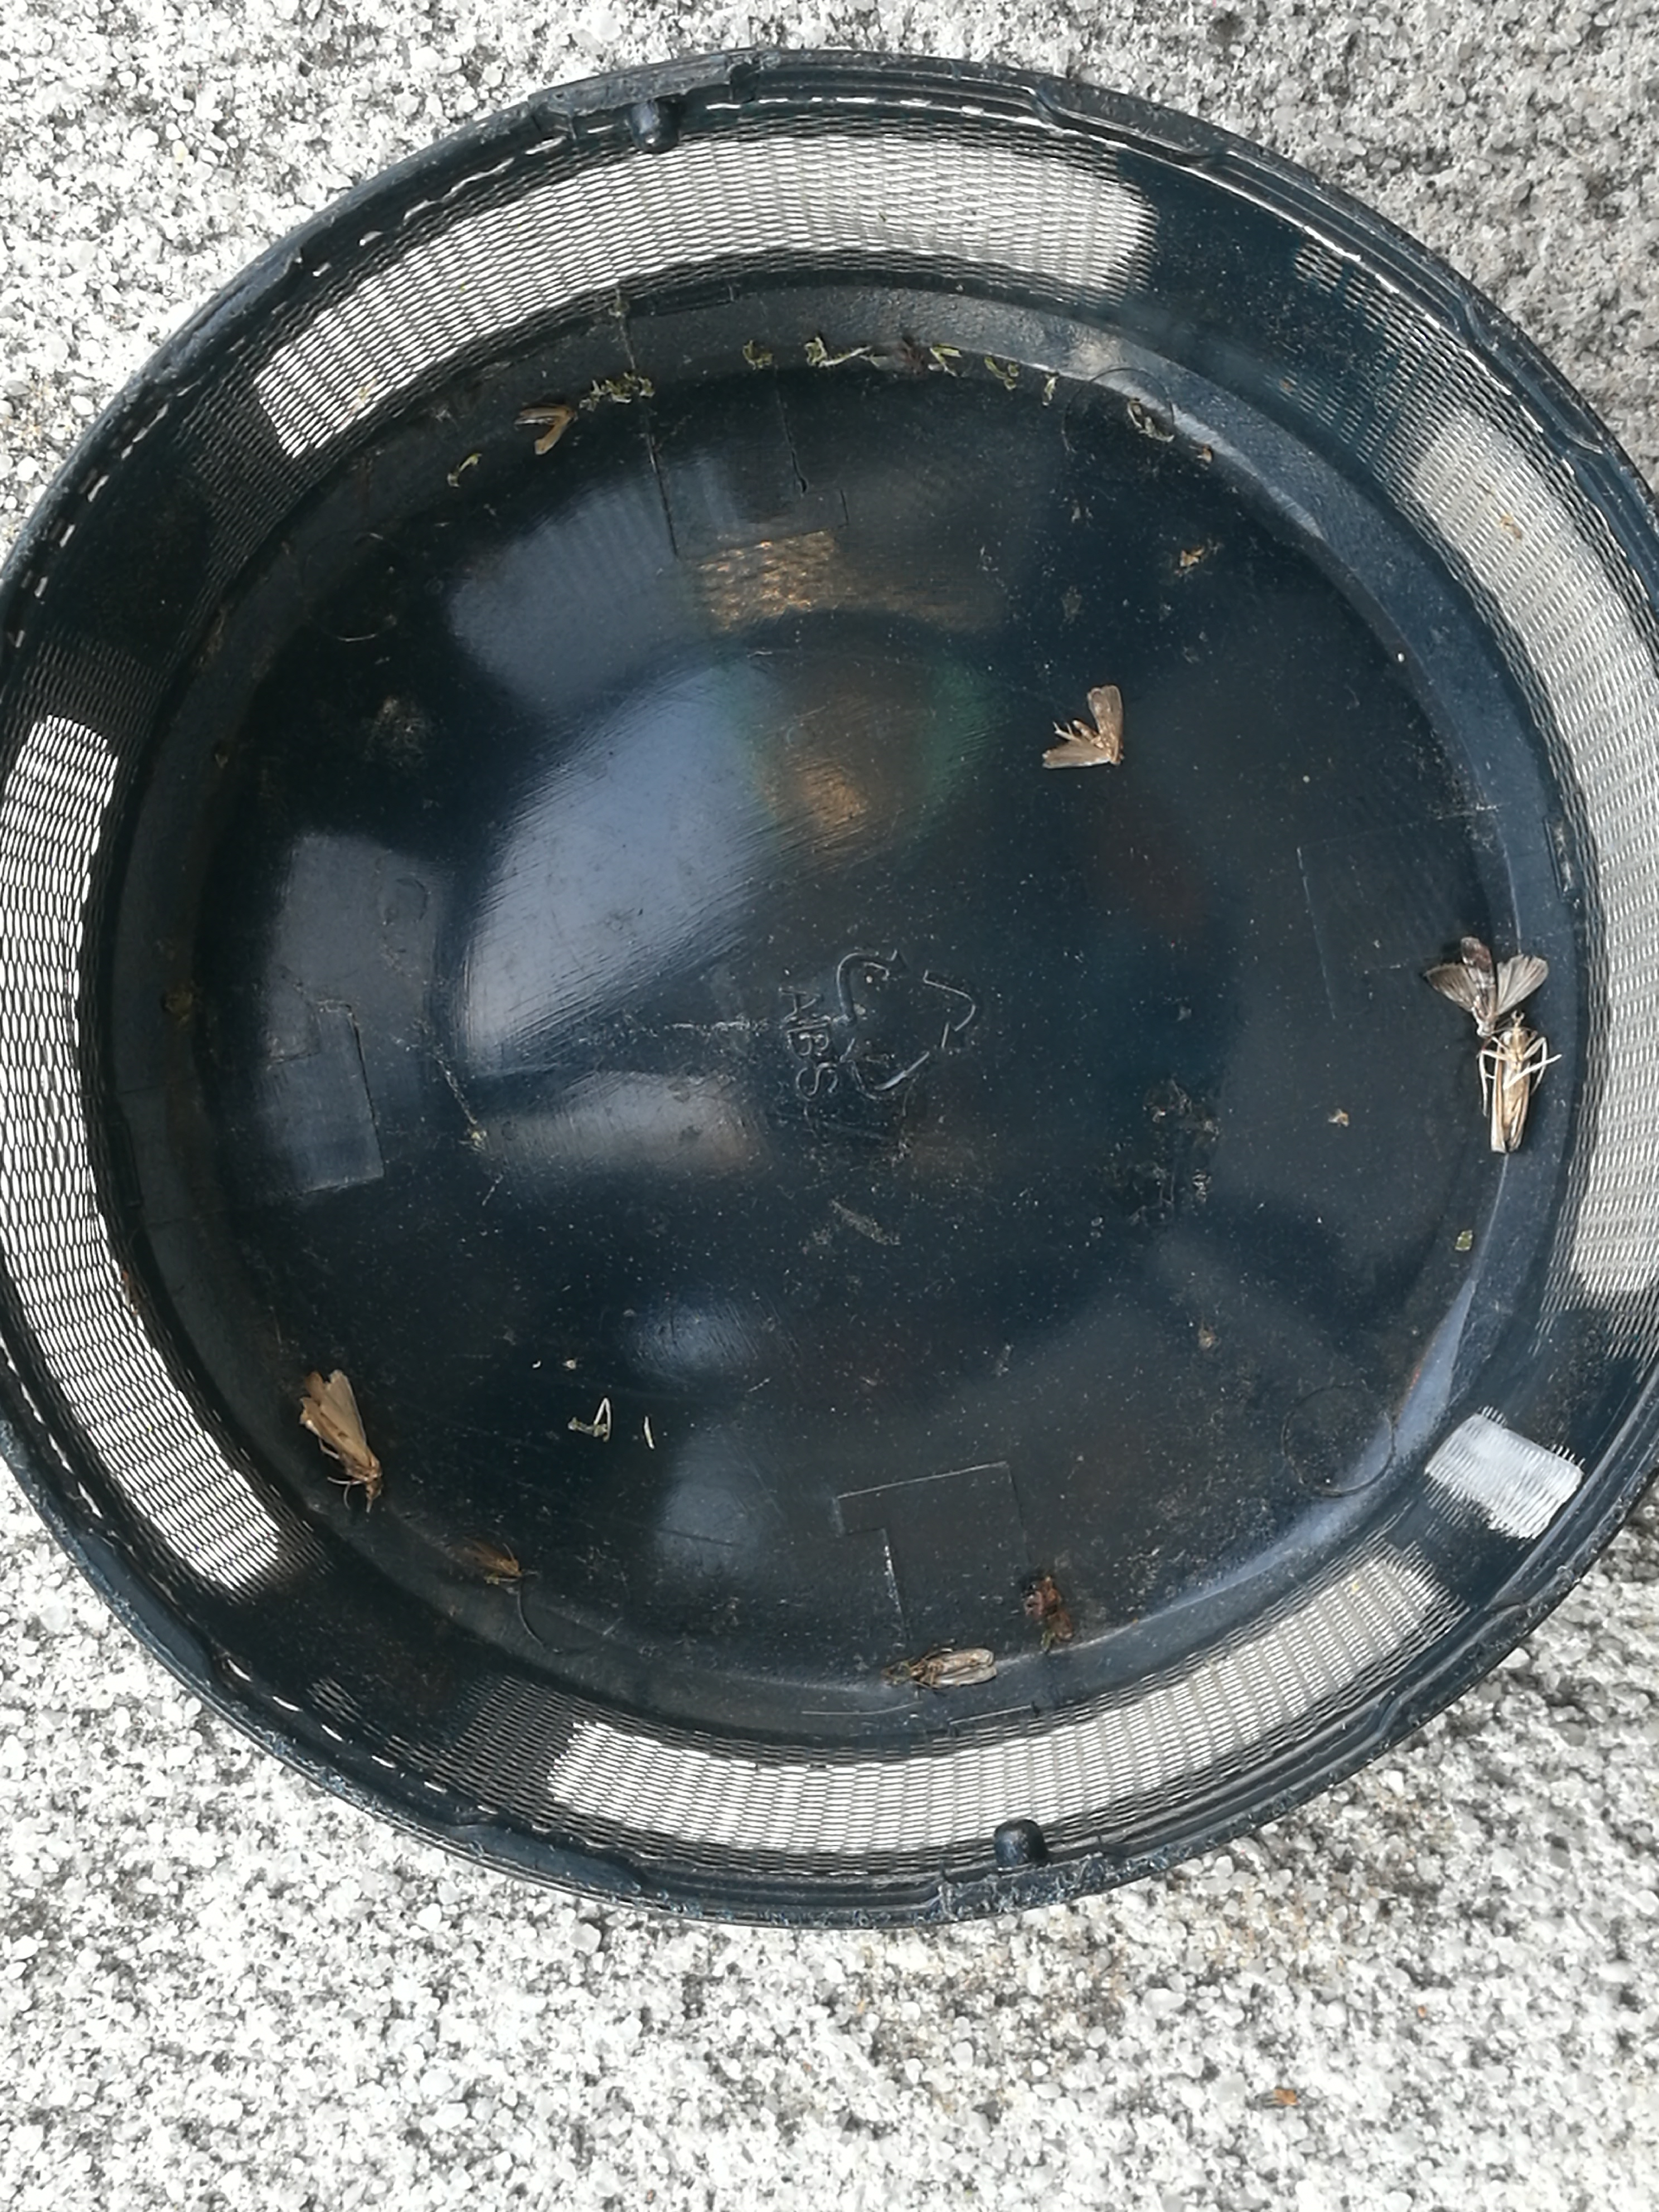mosquito: (1490, 1022, 1528, 1148)
moth: (1425, 939, 1547, 1033), (300, 1367, 376, 1484), (1042, 686, 1124, 765), (917, 1648, 997, 1683), (518, 406, 573, 453)
